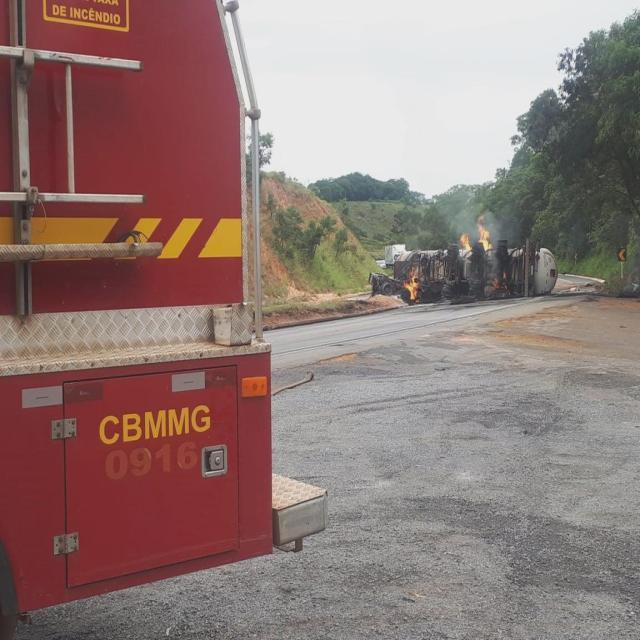Fire: (402, 265, 420, 301), (477, 216, 492, 252), (493, 272, 508, 289), (460, 233, 470, 250)
